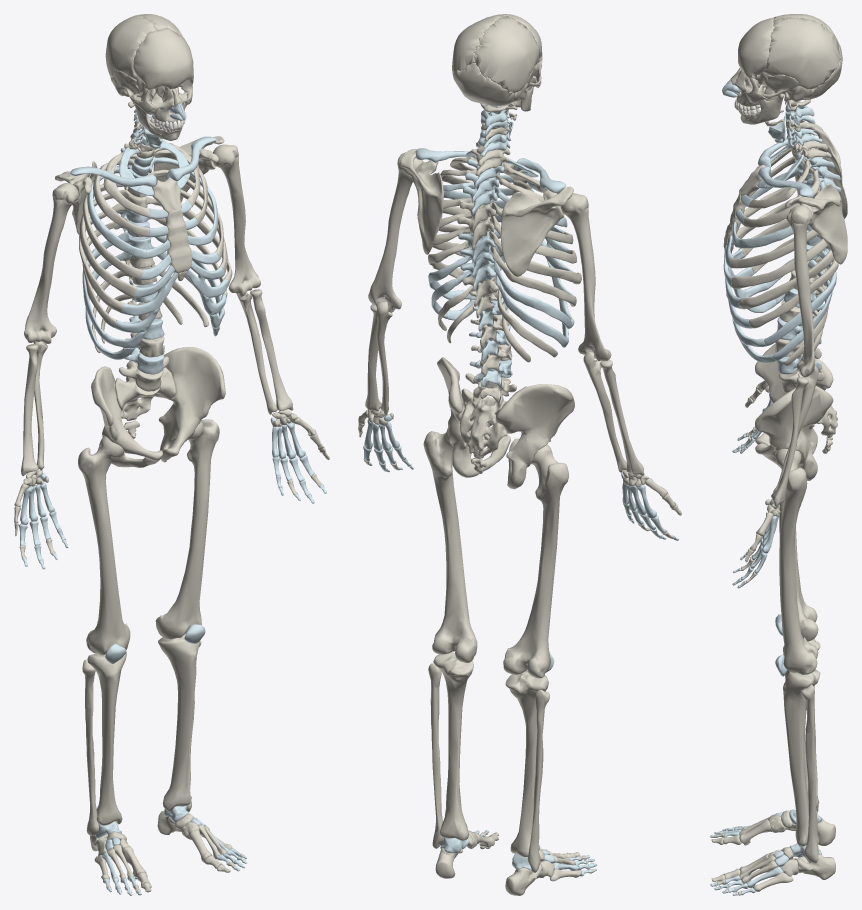
Rendered from skeletal.glb.
3 views of the same model, side by side, from view 1: azimuth 30°, elevation 25°; view 2: azimuth 150°, elevation 25°; view 3: azimuth 270°, elevation 25° (orthographic). The views are drawn at different scales.
Parts seen in each view (by area): view 1: SKL.femur.R, SKL.femur.L, SKL.hip_bone.L, SKL.tibia.L, SKL.frontal_bone.C, SKL.tibia.R, SKL.humerus.R, SKL.humerus.L, SKL.hip_bone.R, SKL.parietal_bone.R, SKL.sacrum.C, SKL.fibula.R (+18 smaller); view 2: SKL.femur.R, SKL.femur.L, SKL.hip_bone.R, SKL.scapula.R, SKL.parietal_bone.R, SKL.tibia.L, SKL.tibia.R, SKL.humerus.R, SKL.humerus.L, SKL.hip_bone.L, SKL.scapula.L, SKL.sacrum.C (+15 smaller); view 3: SKL.femur.L, SKL.parietal_bone.L, SKL.tibia.L, SKL.hip_bone.L, SKL.humerus.L, SKL.scapula.L, SKL.fibula.L, SKL.frontal_bone.C, SKL.hip_bone.R, SKL.radius.L, SKL.femur.R, SKL.seventh_rib.L (+28 smaller).
Part boxes in pixels (x1=…): SKL.femur.R: x1=78, y1=436, x2=130, y2=655; SKL.femur.L: x1=155, y1=419, x2=219, y2=639; SKL.hip_bone.L: x1=158, y1=347, x2=225, y2=462; SKL.tibia.L: x1=158, y1=632, x2=199, y2=811; SKL.frontal_bone.C: x1=133, y1=28, x2=193, y2=91; SKL.tibia.R: x1=87, y1=652, x2=126, y2=825; SKL.humerus.R: x1=24, y1=183, x2=78, y2=343; SKL.humerus.L: x1=212, y1=144, x2=260, y2=296; SKL.hip_bone.R: x1=91, y1=366, x2=162, y2=467; SKL.parietal_bone.R: x1=105, y1=15, x2=157, y2=79; SKL.sacrum.C: x1=115, y1=367, x2=175, y2=420; SKL.fibula.R: x1=82, y1=659, x2=99, y2=835; SKL.femur.R: x1=503, y1=444, x2=568, y2=678; SKL.femur.L: x1=423, y1=428, x2=477, y2=662; SKL.hip_bone.R: x1=495, y1=384, x2=574, y2=489; SKL.scapula.R: x1=500, y1=186, x2=573, y2=276; SKL.parietal_bone.R: x1=474, y1=16, x2=539, y2=93; SKL.tibia.L: x1=433, y1=652, x2=473, y2=840; SKL.tibia.R: x1=505, y1=671, x2=548, y2=857; SKL.humerus.R: x1=561, y1=193, x2=611, y2=361; SKL.humerus.L: x1=368, y1=152, x2=423, y2=312; SKL.hip_bone.L: x1=437, y1=357, x2=510, y2=477; SKL.scapula.L: x1=400, y1=149, x2=443, y2=254; SKL.sacrum.C: x1=459, y1=388, x2=507, y2=458; SKL.femur.L: x1=775, y1=448, x2=818, y2=674; SKL.parietal_bone.L: x1=763, y1=17, x2=840, y2=89; SKL.tibia.L: x1=783, y1=669, x2=820, y2=846; SKL.hip_bone.L: x1=755, y1=386, x2=833, y2=480; SKL.humerus.L: x1=786, y1=205, x2=815, y2=377; SKL.scapula.L: x1=785, y1=183, x2=847, y2=264; SKL.fibula.L: x1=800, y1=684, x2=818, y2=863; SKL.frontal_bone.C: x1=738, y1=17, x2=774, y2=78; SKL.hip_bone.R: x1=755, y1=343, x2=833, y2=453; SKL.radius.L: x1=771, y1=377, x2=808, y2=506; SKL.femur.R: x1=779, y1=470, x2=818, y2=641; SKL.seventh_rib.L: x1=739, y1=249, x2=834, y2=309.
Bounding box in the file's own units: 0.6693 × 1.7 × 0.2501.
